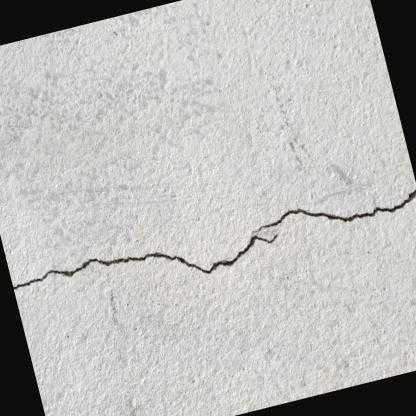crack: (13, 235, 278, 291), (255, 189, 416, 232)
